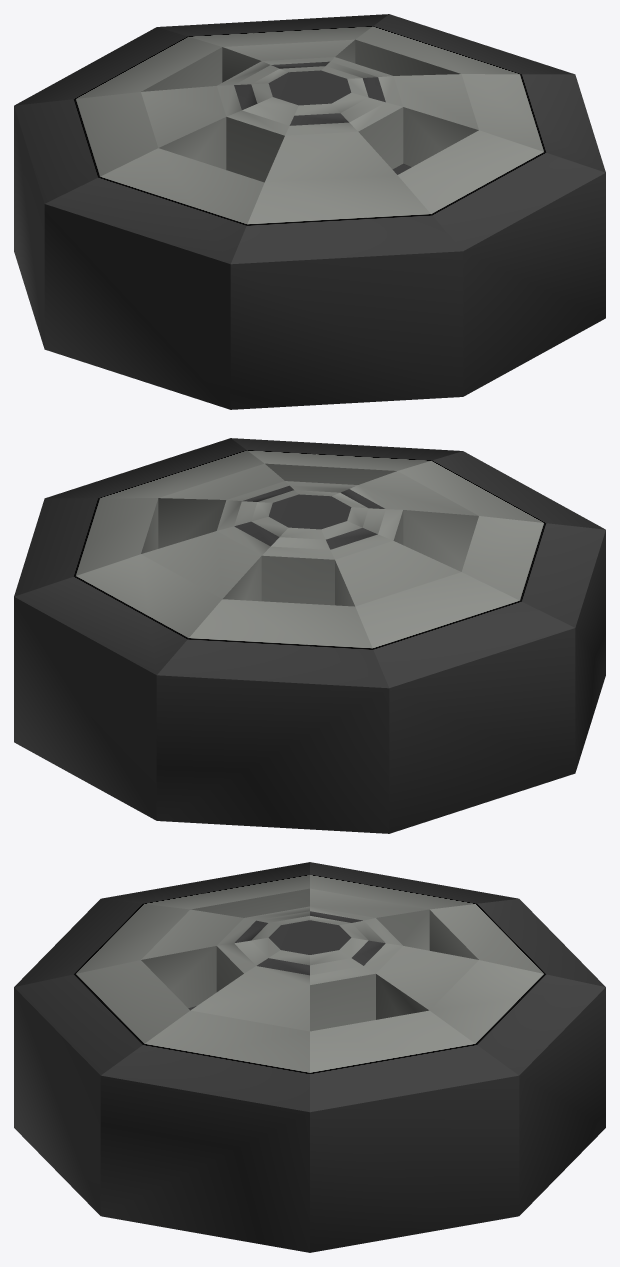
Rendered from Par_Car_2.fbx.
The picture shows the model from 3 angles, top to bottom: view 1: azimuth 30°, elevation 25°; view 2: azimuth 150°, elevation 25°; view 3: azimuth 270°, elevation 25°; orthographic projection. The views are drawn at different scales.
Parts seen in each view (by area): view 1: Par_Car_2; view 2: Par_Car_2; view 3: Par_Car_2.
Part boxes in pixels (x1,y1,x2,y2): Par_Car_2: (14, 14, 605, 409); Par_Car_2: (14, 438, 605, 833); Par_Car_2: (14, 862, 605, 1252).
Bounding box in the file's own units: 55.24 × 19.58 × 55.24.
1 material, 1 textured.
